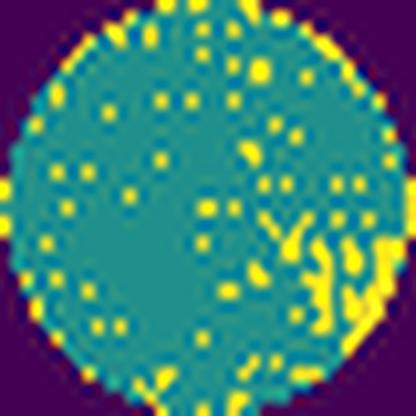Edge-Loc: (340, 228, 408, 360)
